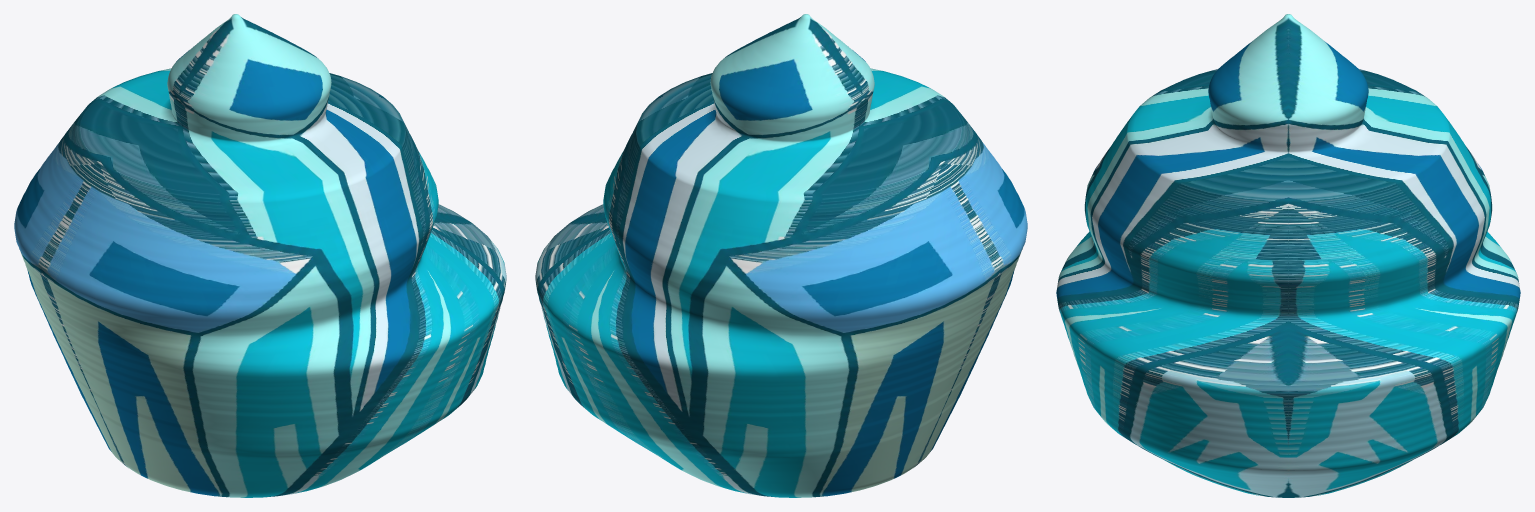
The model's file is upright_crystal_cluster.glb.
3 renders of one model, left to right at view 1: azimuth 30°, elevation 25°; view 2: azimuth 150°, elevation 25°; view 3: azimuth 270°, elevation 25°, orthographic. The views are drawn at different scales.
Visible parts, largest first — view 1: upright_crystal_cluster; view 2: upright_crystal_cluster; view 3: upright_crystal_cluster.
Boxes of the visible parts, bbox=[...] form: upright_crystal_cluster: bbox=[14, 14, 506, 497]; upright_crystal_cluster: bbox=[535, 14, 1027, 497]; upright_crystal_cluster: bbox=[1056, 14, 1520, 497].
Size of the model in its own units: 0.9935 by 1.01 by 0.945.
1 material, 1 textured.
